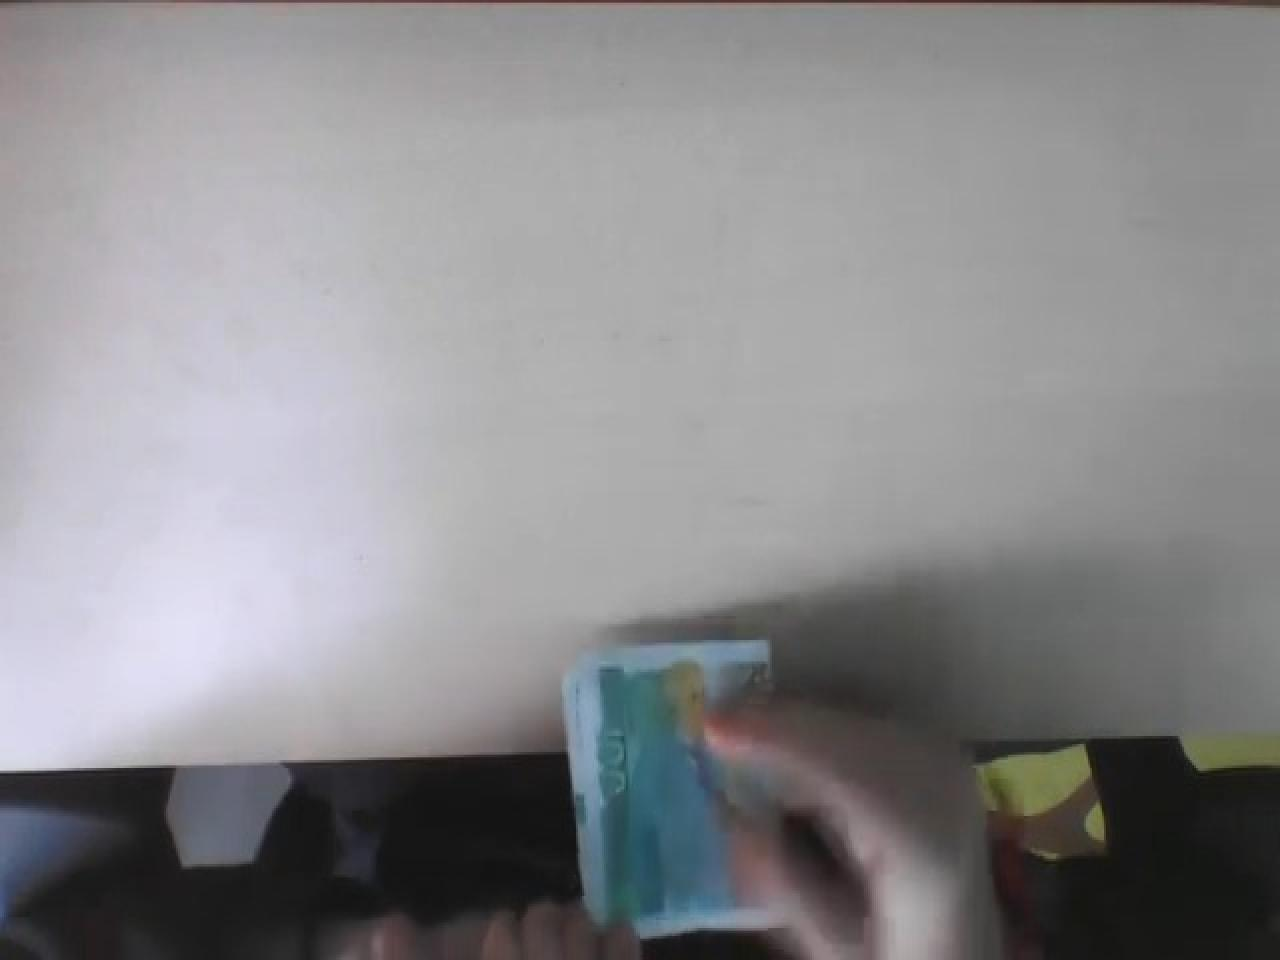100leva: (560, 637, 774, 936)
